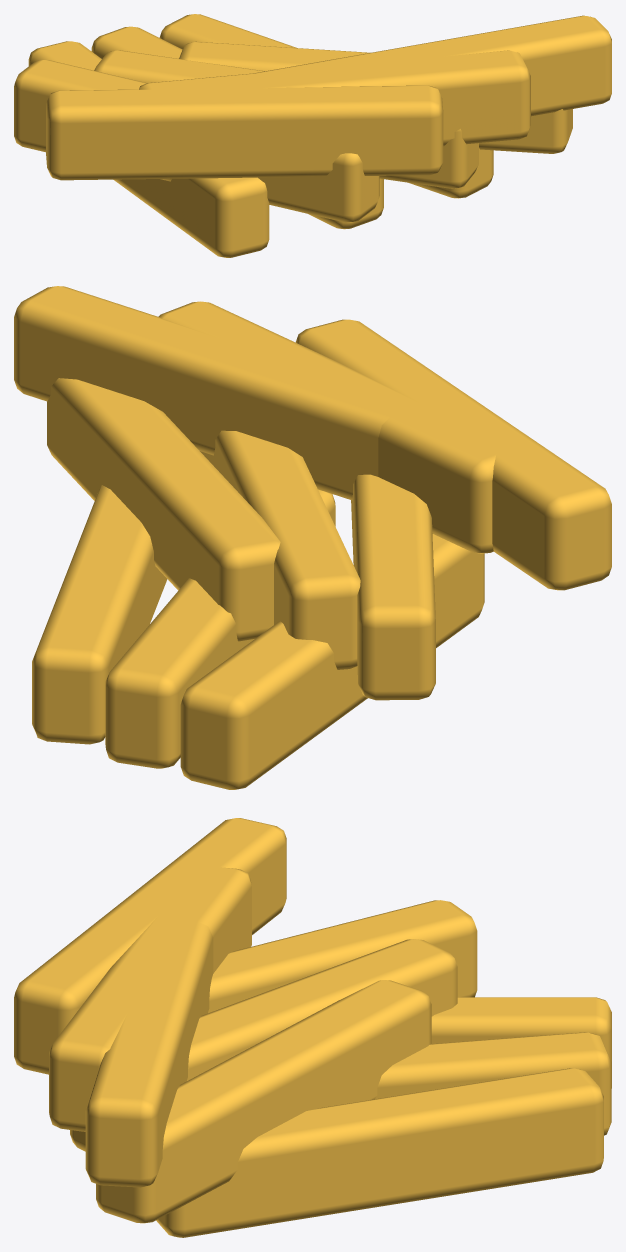
The model's file is potato-cut.glb.
3 views of the same model, one above another, from view 1: azimuth 30°, elevation 25°; view 2: azimuth 150°, elevation 25°; view 3: azimuth 270°, elevation 25° (orthographic). The views are drawn at different scales.
Parts seen in each view (by area): view 1: potato-cut; view 2: potato-cut; view 3: potato-cut.
Boxes of the visible parts, x1,y1,x2,y2 form: potato-cut: (14, 14, 611, 257); potato-cut: (14, 286, 611, 789); potato-cut: (14, 818, 611, 1237).
Bounding box in the file's own units: 0.4299 × 0.13 × 0.3692.
